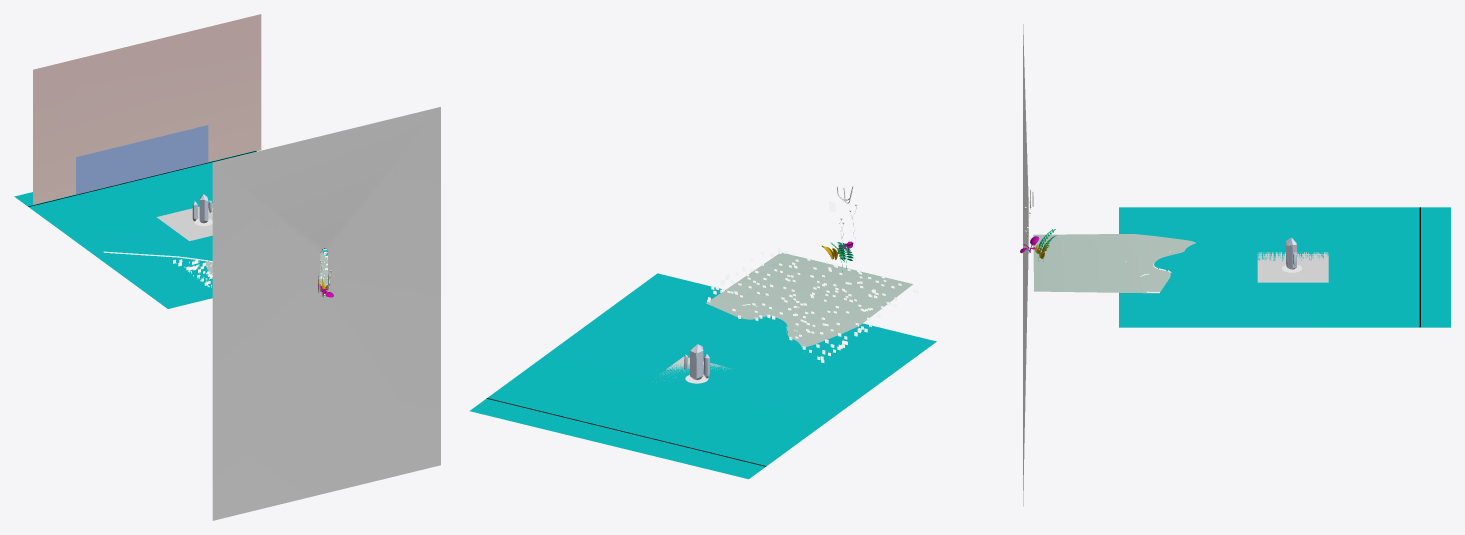
3 views of the same model, side by side, from view 1: azimuth 30°, elevation 25°; view 2: azimuth 150°, elevation 25°; view 3: azimuth 270°, elevation 25° (orthographic). The views are drawn at different scales.
Visible parts, largest first — view 1: Window, sky, water, Background, AlphaMask, Grass; view 2: water, Ground, Grass; view 3: water, Ground, AlphaMask, Window.
Boxes of the visible parts, left/top/right/bottom form: Window: left=212, top=107, right=440, bottom=520; sky: left=33, top=14, right=261, bottom=204; water: left=14, top=150, right=327, bottom=308; Background: left=76, top=125, right=208, bottom=194; AlphaMask: left=156, top=203, right=212, bottom=240; Grass: left=103, top=249, right=329, bottom=295; water: left=469, top=273, right=936, bottom=479; Ground: left=706, top=252, right=912, bottom=346; Grass: left=707, top=248, right=918, bottom=362; water: left=1119, top=207, right=1450, bottom=327; Ground: left=1033, top=234, right=1195, bottom=293; AlphaMask: left=1257, top=252, right=1328, bottom=282; Window: left=1023, top=24, right=1028, bottom=506.
Size of the model in its own units: 205 by 300 by 303.
